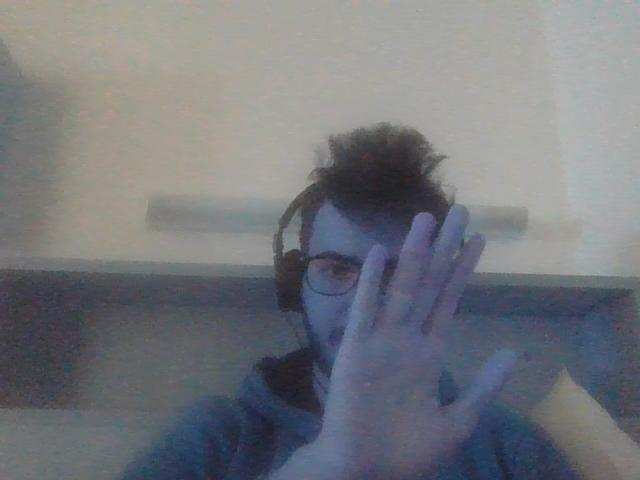Hello: (346, 230, 495, 473)
